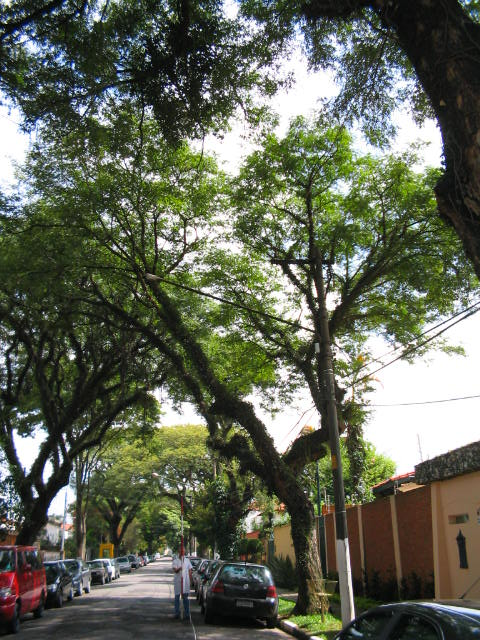crown: (4, 110, 475, 387)
stem: (269, 483, 340, 615)
stick: (173, 496, 191, 619)
tree: (4, 109, 476, 617)
